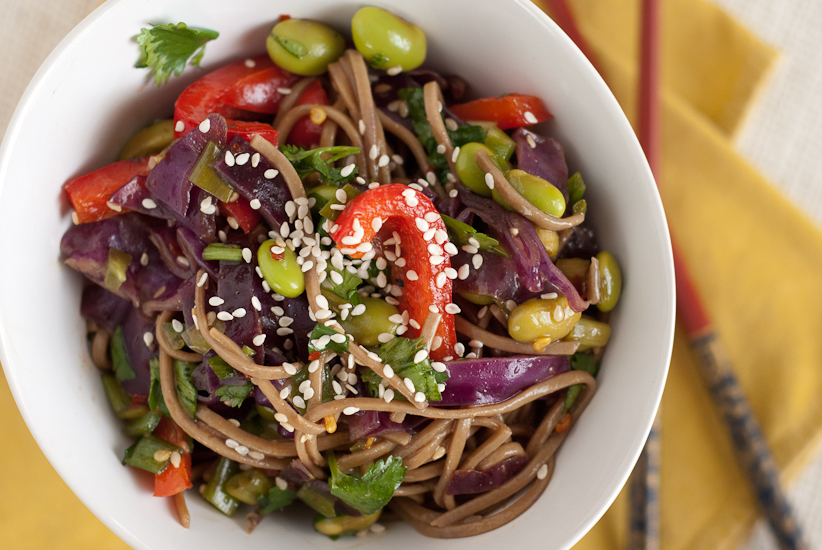Soba: (95, 63, 587, 536)
